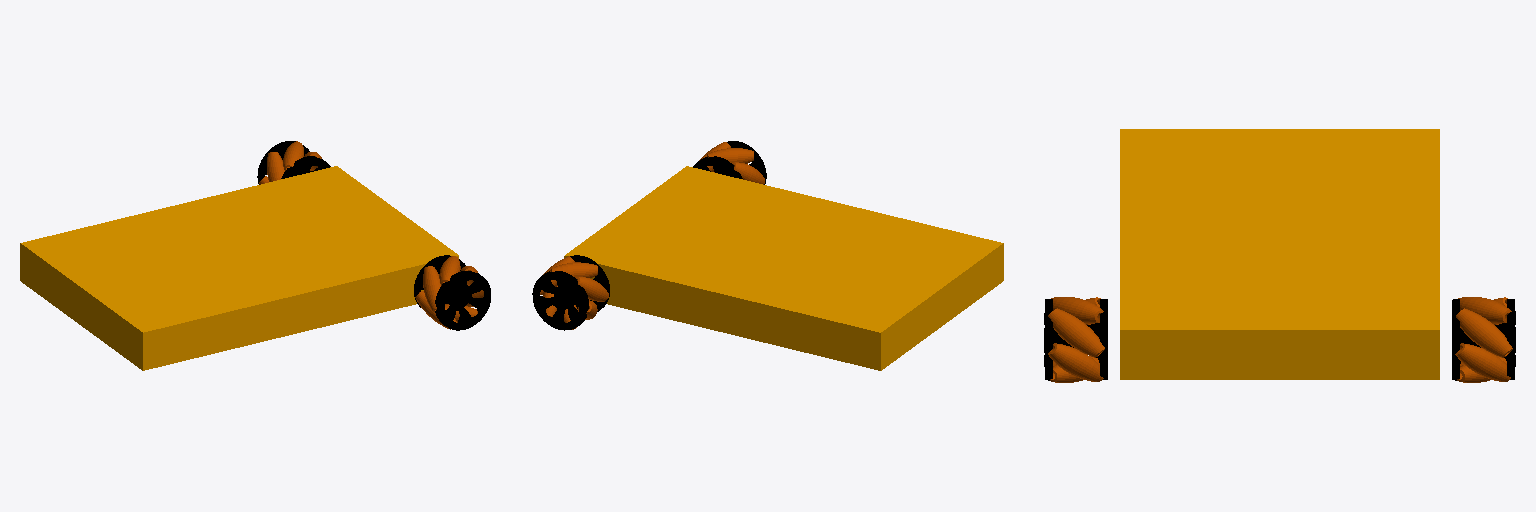
robot.urdf — mecanum:
<?xml version="1.0" ?>
<!-- =================================================================================== -->
<!-- |    This document was autogenerated by xacro from mecanum.xacro                  | -->
<!-- |    EDITING THIS FILE BY HAND IS NOT RECOMMENDED                                 | -->
<!-- =================================================================================== -->
<robot name="mecanum" xmlns:xacro="http://www.ros.org/wiki/xacro">
  <!-- links used here described in robot.xacto file -->
  <gazebo>
    <plugin filename="libgazebo_ros_control.so" name="gazebo_ros_control">
      <robotNamespace>/mecanum</robotNamespace>
      <robotSimType>gazebo_ros_control/DefaultRobotHWSim</robotSimType>
    </plugin>
  </gazebo>
  <gazebo>
    <plugin filename="libmecanum.so" name="mecanum"/>
  </gazebo>

  <!--~~~~~~~~~~~~~~~~~~~~~~~~ ~ ROBOT BASE ~ ~~~~~~~~~~~~~~~~~~~~~~~~~~~~~~-->
  <!-- Make a box for robot base -->
  <link name="base_link">
    <!-- Draw imaginary box around the robot for collision detection -->
    <collision>
      <origin rpy="0 0 0" xyz="0 0 0.0"/>
      <geometry>
        <box size="0.549275 0.3683 0.0635"/>
      </geometry>
    </collision>
    <!-- Describe how to draw the box in 3d -->
    <visual>
      <origin rpy="0 0 0" xyz="0 0 0.0"/>
      <geometry>
        <box size="0.549275 0.3683 0.0635"/>
      </geometry>
      <material name="red"/>
    </visual>
    <inertial>
      <mass value="1e-3"/>
      <origin rpy="0 0 0" xyz="0 0 0"/>
      <inertia ixx="1e-6" ixy="0" ixz="0" iyy="1e-6" iyz="0" izz="1e-6"/>
    </inertial>
  </link>
  <link name="fl_link">
    <visual>
      <geometry>
        <mesh filename="package://mecanum_sim/mesh/front-left_wheel.dae"/>
      </geometry>
      <origin rpy="0 0 0" xyz="0 0 0"/>
    </visual>
    <collision>
      <geometry>
        <cylinder length="0.0762" radius="0.1016"/>
      </geometry>
      <origin rpy="1.57079632679 0 0" xyz="0 0 0"/>
    </collision>
    <inertial>
      <mass value="0.1"/>
      <origin rpy="1.57079632679 0 0" xyz="0 0 0"/>
      <inertia ixx="1e-6" ixy="0" ixz="0" iyy="1e-6" iyz="0" izz="1e-6"/>
    </inertial>
  </link>
  <link name="fr_link">
    <visual>
      <geometry>
        <mesh filename="package://mecanum_sim/mesh/front-left_wheel.dae"/>
      </geometry>
      <origin rpy="0 0 0" xyz="0 0 0"/>
    </visual>
    <collision>
      <geometry>
        <cylinder length="0.0762" radius="0.1016"/>
      </geometry>
      <origin rpy="1.57079632679 0 0" xyz="0 0 0"/>
    </collision>
    <inertial>
      <mass value="0.1"/>
      <origin rpy="1.57079632679 0 0" xyz="0 0 0"/>
      <inertia ixx="1e-6" ixy="0" ixz="0" iyy="1e-6" iyz="0" izz="1e-6"/>
    </inertial>
  </link>
  <link name="bl_link">
    <visual>
      <geometry>
        <mesh filename="package://mecanum_sim/mesh/back-left_wheel.dae"/>
      </geometry>
      <origin rpy="0 0 0" xyz="0 0 0"/>
    </visual>
    <collision>
      <geometry>
        <cylinder length="0.0762" radius="0.1016"/>
      </geometry>
      <origin rpy="1.57079632679 0 0" xyz="0 0 0"/>
    </collision>
    <inertial>
      <mass value="0.1"/>
      <origin rpy="1.57079632679 0 0" xyz="0 0 0"/>
      <inertia ixx="1e-6" ixy="0" ixz="0" iyy="1e-6" iyz="0" izz="1e-6"/>
    </inertial>
  </link>
  <link name="br_link">
    <visual>
      <geometry>
        <mesh filename="package://mecanum_sim/mesh/back-right_wheel.dae"/>
      </geometry>
      <origin rpy="0 0 0" xyz="0 0 0"/>
    </visual>
    <collision>
      <geometry>
        <cylinder length="0.0762" radius="0.1016"/>
      </geometry>
      <origin rpy="1.57079632679 0 0" xyz="0 0 0"/>
    </collision>
    <inertial>
      <mass value="0.1"/>
      <origin rpy="1.57079632679 0 0" xyz="0 0 0"/>
      <inertia ixx="1e-6" ixy="0" ixz="0" iyy="1e-6" iyz="0" izz="1e-6"/>
    </inertial>
  </link>
  <!--~~~~~~~~~~~~~~~~~~~~~~~ ~ Lidar ~ ~~~~~~~~~~~~~~~~~~~~~~~~~~~~~-->


  <joint name="fl_joint" type="fixed">
    <parent link="base_link"/>
    <child link="fl_link"/>
    <origin rpy="0 0 0" xyz="0.2333625 0.23495 0.0"/>
    <axis xyz="0 0 0"/>
    <!-- <dynamics damping="1.0" friction="0.0" spring_stiffness="1" /> -->
  </joint>
  <joint name="fr_joint" type="fixed">
    <parent link="base_link"/>
    <child link="fr_link"/>
    <origin rpy="0 0 0" xyz="0.2333625 -0.23495 0.0"/>
    <axis xyz="0 0 0"/>
    <!-- <dynamics damping="1.0" friction="0.0" spring_stiffness="1" /> -->
  </joint>
  <joint name="bl_joint" type="fixed">
    <parent link="base_link"/>
    <child link="bl_link"/>
    <origin rpy="0 0 0" xyz="-0.2333625 0.23495 0.0"/>
    <axis xyz="0 0 0"/>
    <!-- <dynamics damping="1.0" friction="0.0" spring_stiffness="1" /> -->
  </joint>
  <joint name="br_joint" type="fixed">
    <parent link="base_link"/>
    <child link="br_link"/>
    <origin rpy="0 0 0" xyz="-0.2333625 -0.23495 0.0"/>
    <axis xyz="0 0 0"/>
    <!-- <dynamics damping="1.0" friction="0.0" spring_stiffness="1" /> -->
  </joint>
</robot>

--- What the picture shows (computed from the rendered views, not written in the file) ---
The picture shows the robot from 3 angles, left to right: view 1: azimuth 30°, elevation 25°; view 2: azimuth 150°, elevation 25°; view 3: azimuth 270°, elevation 25°; orthographic projection.
Robot: mecanum — 5 links, 4 joints (4 fixed); root link base_link; default pose: all joints at 0.
Visible links, largest first — view 1: base_link, fr_link, fl_link; view 2: base_link, fl_link, fr_link; view 3: base_link, fl_link, fr_link.
Boxes of the visible links, bbox=[...] form: base_link: bbox=[20, 166, 458, 370]; fr_link: bbox=[414, 255, 490, 330]; fl_link: bbox=[257, 141, 330, 184]; base_link: bbox=[564, 166, 1003, 370]; fl_link: bbox=[532, 255, 609, 330]; fr_link: bbox=[693, 141, 766, 184]; base_link: bbox=[1120, 129, 1439, 379]; fl_link: bbox=[1452, 297, 1515, 382]; fr_link: bbox=[1044, 297, 1107, 382].
Size in the robot's own frame: 0.5579 by 0.543 by 0.0997 metres.
Meshes: 3 distinct files referenced, 2 mesh visuals loaded (1 Collada DAE); not drawn: 2 (reference not matched to a file when rendering).
